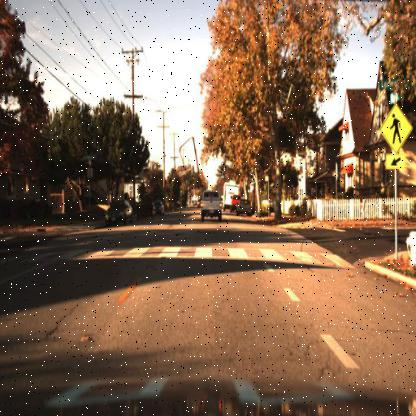car: (196, 184, 226, 224), (102, 196, 136, 230), (147, 195, 168, 219), (236, 197, 253, 216), (229, 193, 243, 216)
truck: (221, 179, 241, 217)
